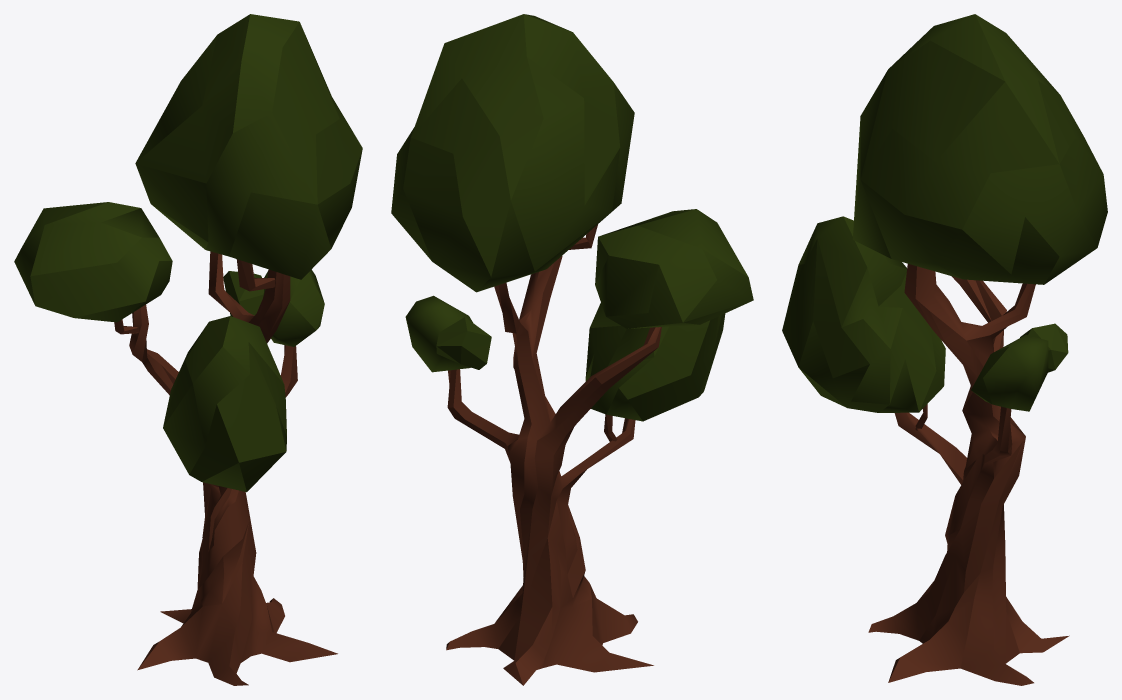
The model's file is Tree_4a.fbx.
3 renders of one model, left to right at view 1: azimuth 30°, elevation 25°; view 2: azimuth 150°, elevation 25°; view 3: azimuth 270°, elevation 25°, orthographic. The views are drawn at different scales.
Parts seen in each view (by area): view 1: Tree_4a; view 2: Tree_4a; view 3: Tree_4a.
Boxes of the visible parts, left/top/right/bottom form: Tree_4a: left=14, top=14, right=362, bottom=685; Tree_4a: left=391, top=14, right=753, bottom=685; Tree_4a: left=782, top=14, right=1107, bottom=685.
Bounding box in the file's own units: 159 × 288 × 131.
